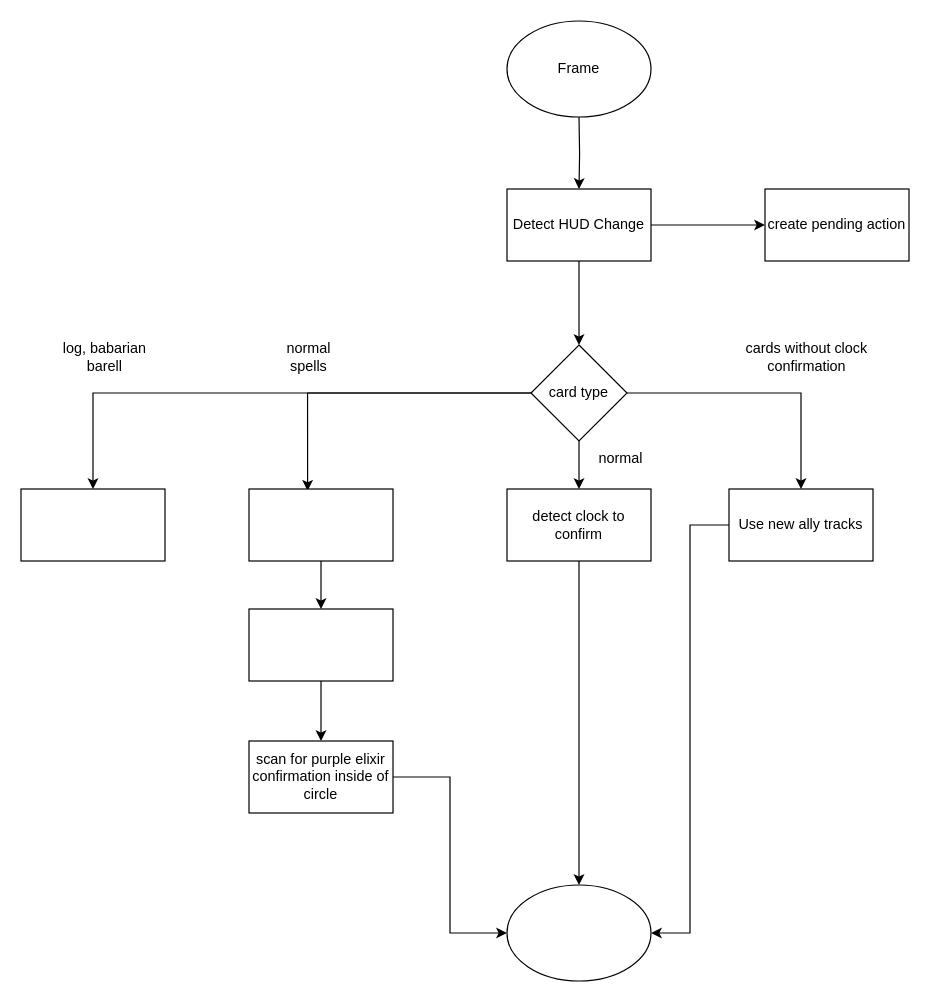
Some shapes in this 930 by 1002 pixel diagram are drawn without their labels. Each missing label, with the centre of its shape:
"Confirmed" belongs at [578,932].
"detect white circle" belongs at [320,524].
"select the best one (radius of spell)" belongs at [320,644].
